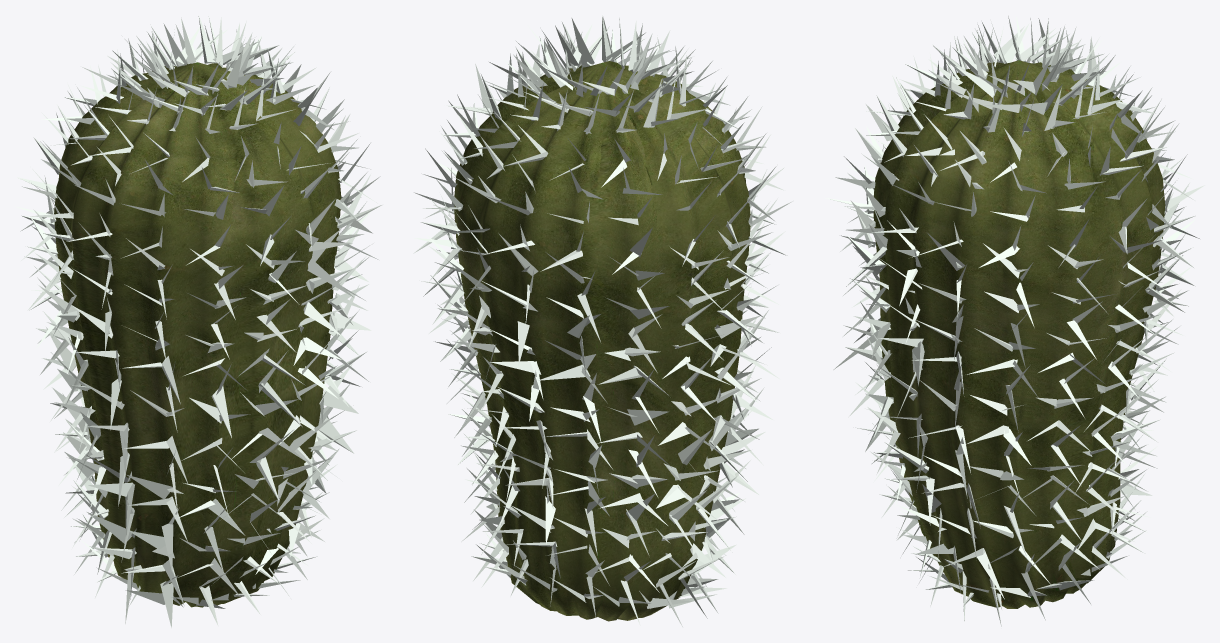
Rendered from cactus3.obj.
3 views of the same model, side by side, from view 1: azimuth 30°, elevation 25°; view 2: azimuth 150°, elevation 25°; view 3: azimuth 270°, elevation 25° (orthographic). The views are drawn at different scales.
Parts seen in each view (by area): view 1: Sphere_0, Sphere_1; view 2: Sphere_0, Sphere_1; view 3: Sphere_0, Sphere_1.
Boxes of the visible parts, bbox=[...] form: Sphere_0: bbox=[54, 62, 341, 607]; Sphere_1: bbox=[17, 15, 381, 627]; Sphere_0: bbox=[454, 61, 750, 621]; Sphere_1: bbox=[413, 15, 792, 626]; Sphere_0: bbox=[873, 60, 1165, 608]; Sphere_1: bbox=[825, 16, 1204, 626].
Size of the model in its own units: 3.35 by 5.44 by 3.37.
2 materials, 2 textured.
